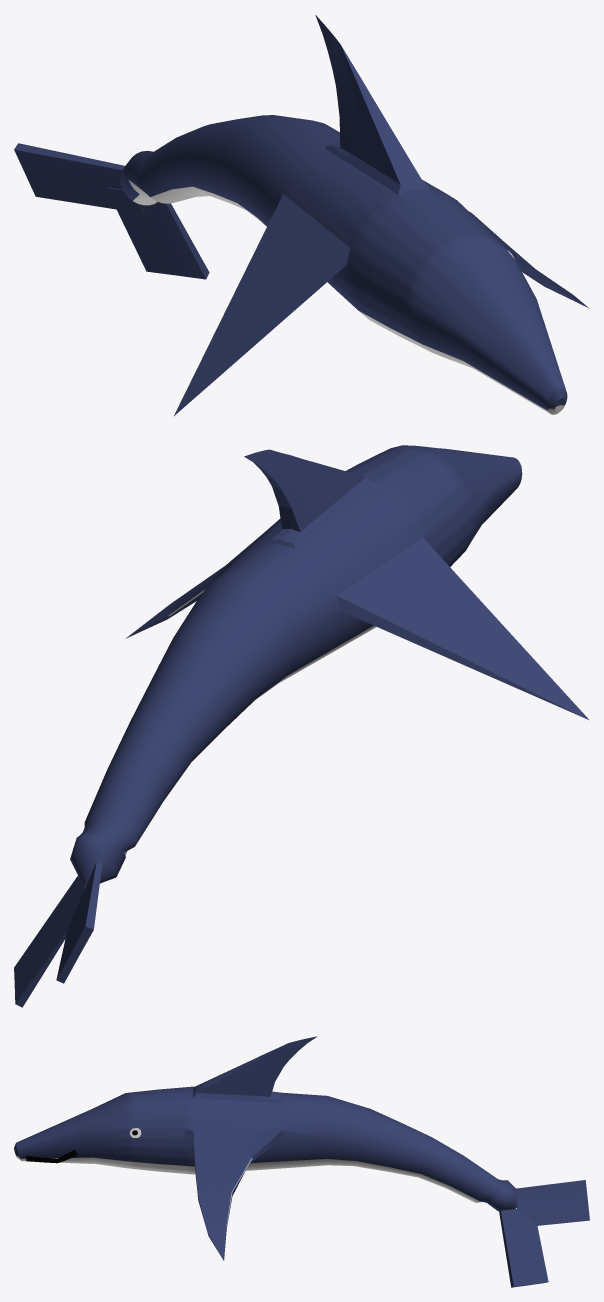
Rendered from dolphin.fbx.
The picture shows the model from 3 angles, top to bottom: view 1: azimuth 30°, elevation 25°; view 2: azimuth 150°, elevation 25°; view 3: azimuth 270°, elevation 25°; orthographic projection. The views are drawn at different scales.
Visible parts, largest first — view 1: dolphin1; view 2: dolphin1; view 3: dolphin1.
Part boxes in pixels (x1=…): dolphin1: x1=14, y1=15, x2=589, y2=415; dolphin1: x1=14, y1=445, x2=589, y2=1007; dolphin1: x1=14, y1=1036, x2=589, y2=1287.
Bounding box in the file's own units: 114 × 101 × 221.
